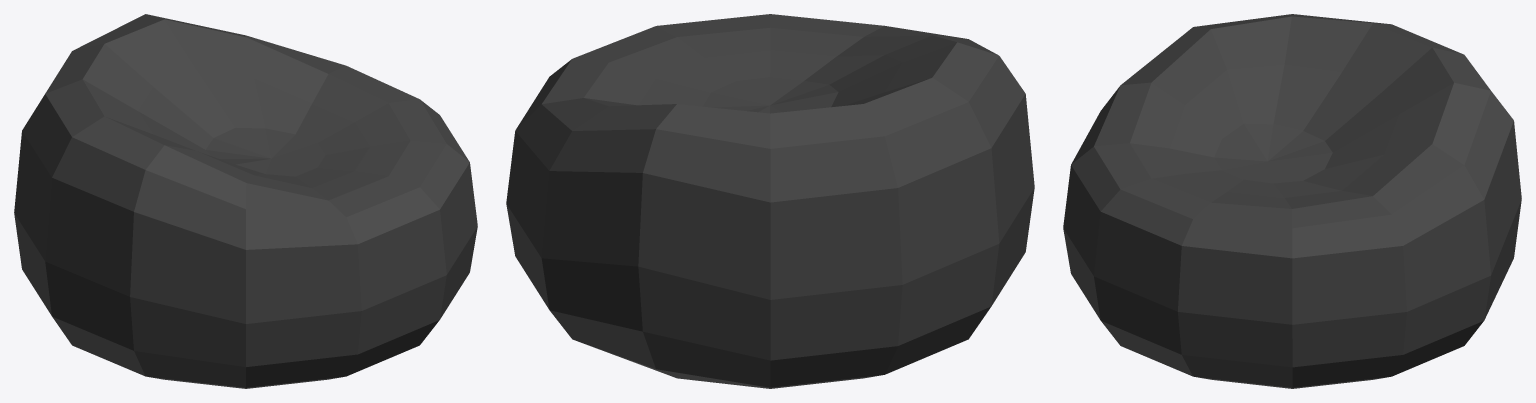
File: SaccoChairV2Grey.fbx
3 renders of one model, left to right at view 1: azimuth 30°, elevation 25°; view 2: azimuth 150°, elevation 25°; view 3: azimuth 270°, elevation 25°, orthographic. The views are drawn at different scales.
Visible parts, largest first — view 1: SaccoChairV2Grey; view 2: SaccoChairV2Grey; view 3: SaccoChairV2Grey.
Boxes of the visible parts, x1,y1,x2,y2 form: SaccoChairV2Grey: [14, 14, 477, 388]; SaccoChairV2Grey: [506, 14, 1034, 388]; SaccoChairV2Grey: [1063, 14, 1521, 388].
Size of the model in its own units: 120 by 69.41 by 120.
